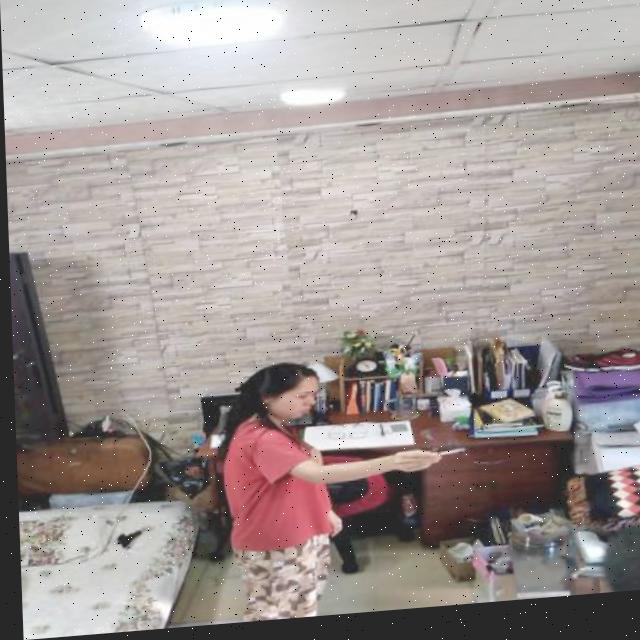cigarette: (433, 456, 460, 464)
